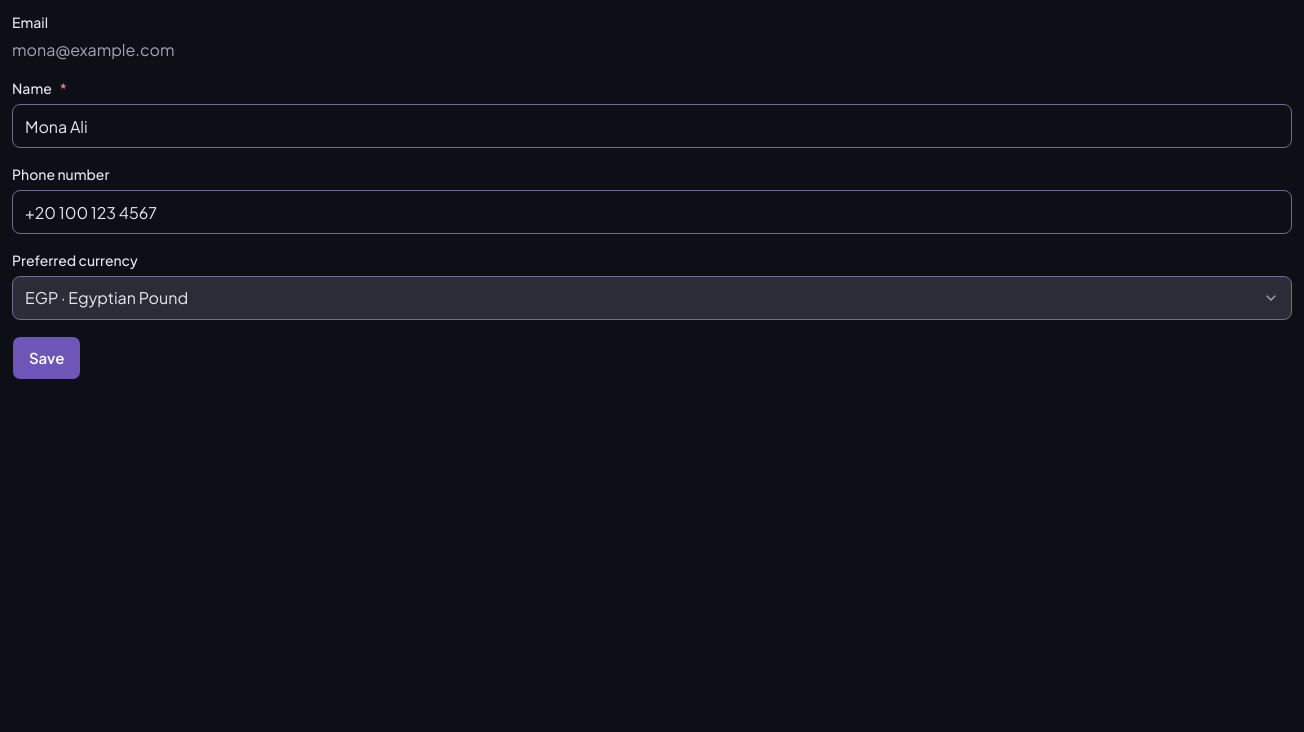
Test: a backend error on phone is shown under that field
What coordinates should you click on to do the following:
click the button "Save"
I would click on:
 (47, 358)
Its box is [12,336,81,380].
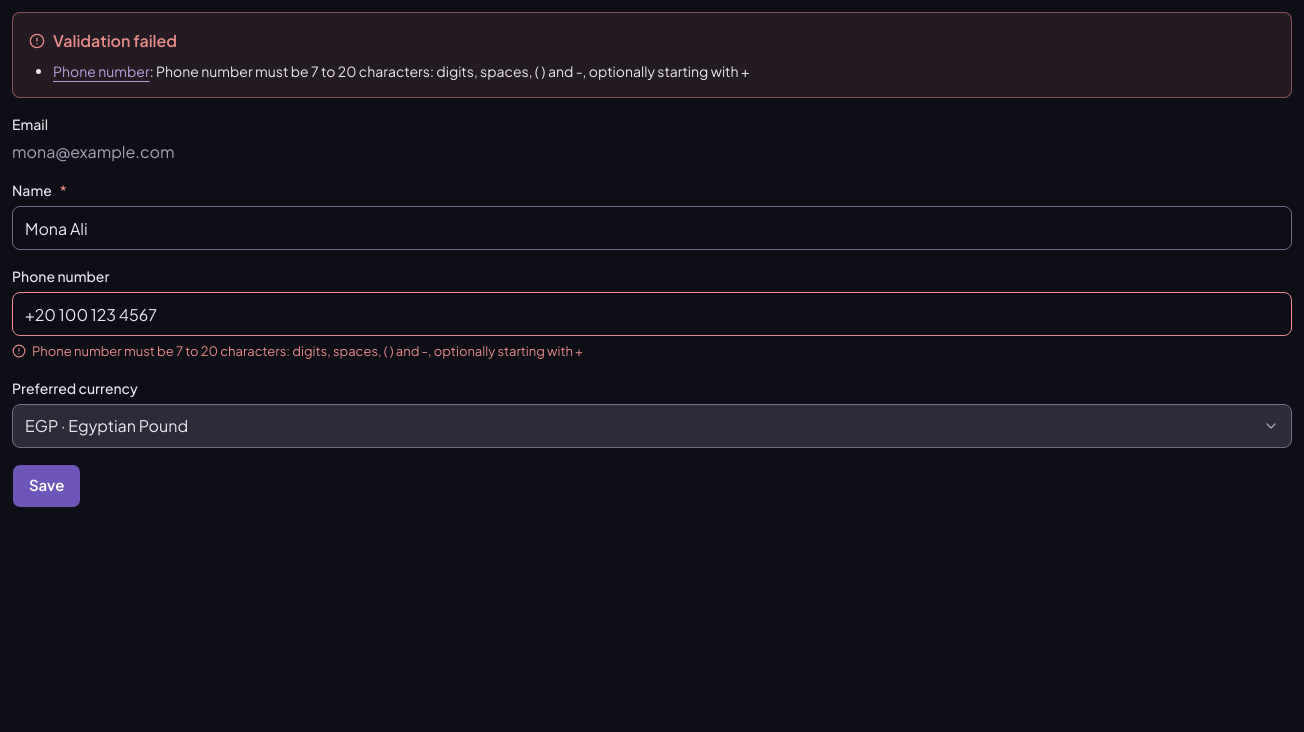
expect the message is shown: met, box [12,12,1292,98]
